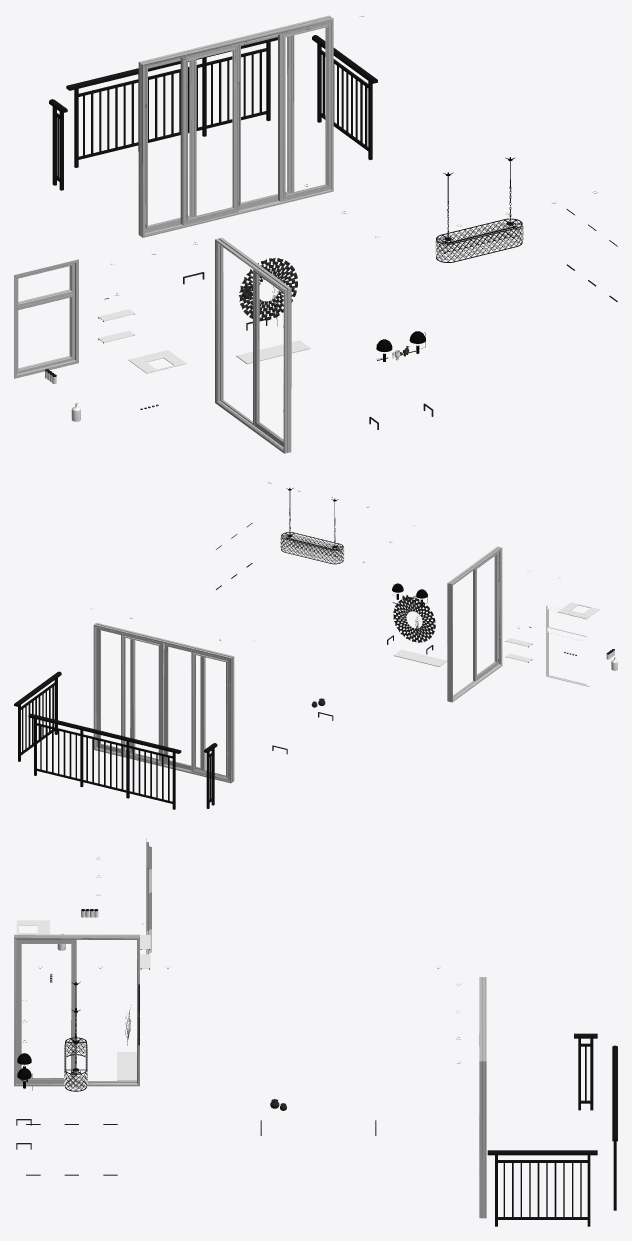
File: Props02.gltf
3 renders of one model, top to bottom at view 1: azimuth 30°, elevation 25°; view 2: azimuth 150°, elevation 25°; view 3: azimuth 270°, elevation 25°, orthographic. The views are drawn at different scales.
Parts seen in each view (by area): view 1: Props02; view 2: Props02; view 3: Props02.
Boxes of the visible parts, x1=… form: Props02: x1=14, y1=15, x2=617, y2=453; Props02: x1=14, y1=482, x2=617, y2=809; Props02: x1=14, y1=838, x2=617, y2=1226.
Size of the model in its own units: 7.99 by 2.89 by 8.34.
Materials: 15 (5 with a texture image).
